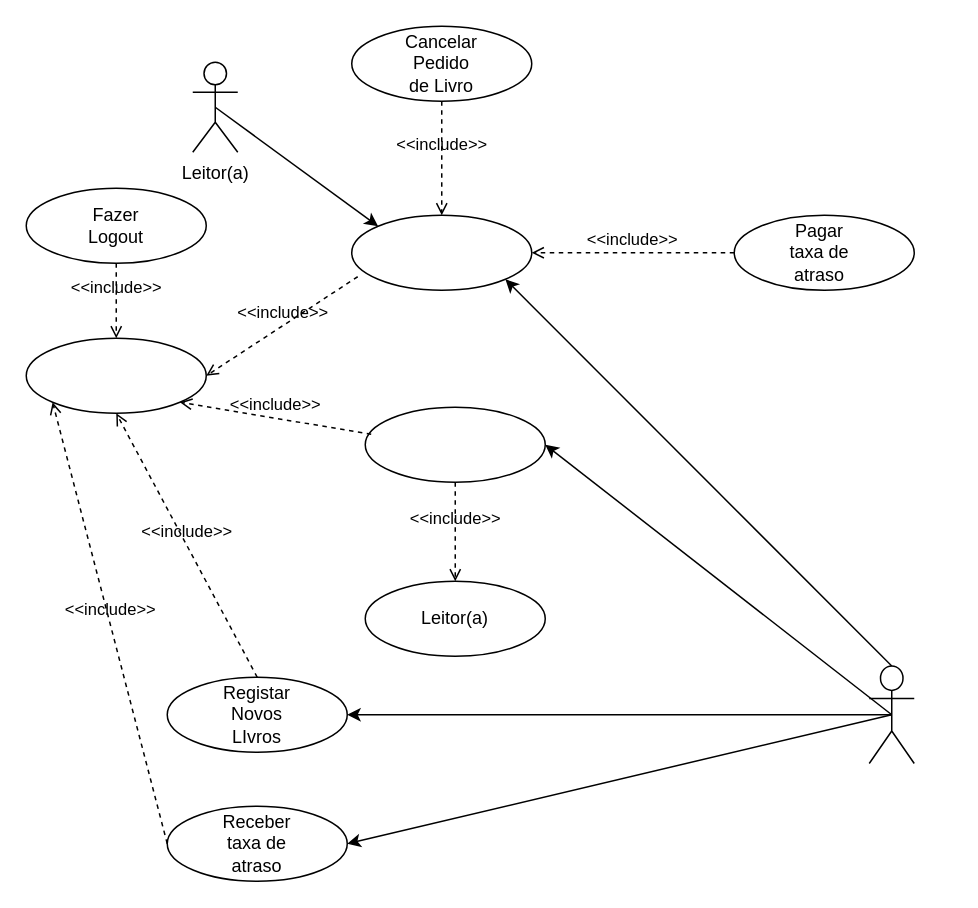
Some shapes in this 978 by 908 pixel diagram are drawn without their labels. Here are the shapes that lost their labels. From the top down, the box of each, then its label:
(350, 214, 532, 290): Fazer Pedido de Livro
(25, 337, 206, 413): Fazer Login
(364, 406, 545, 482): Registar Usuário
(868, 664, 914, 764): Bibliotecário(a)
